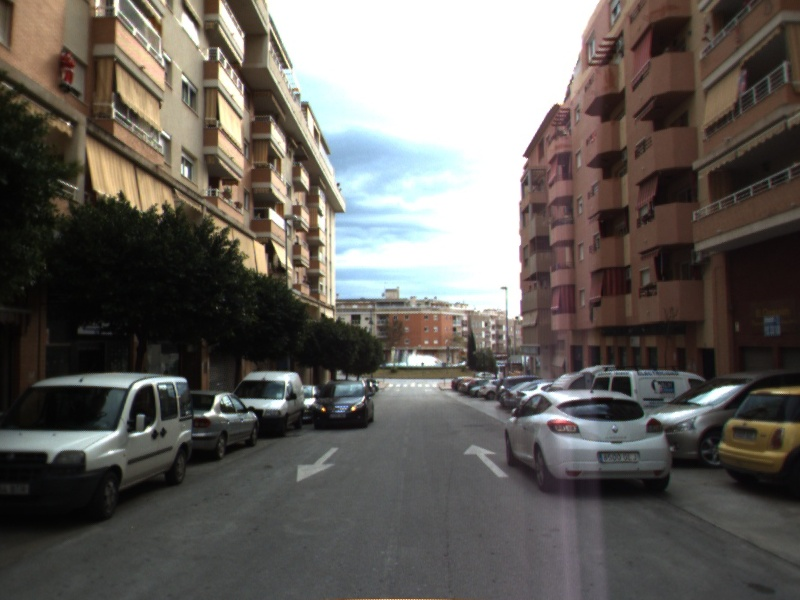STRAIGHT: (461, 442, 511, 479)
